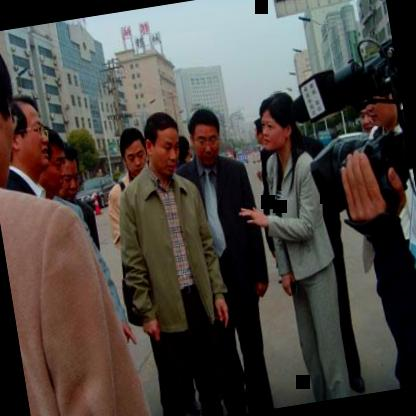head: (0, 29, 31, 187), (1, 90, 54, 178), (250, 86, 304, 158), (138, 107, 186, 176), (184, 101, 228, 167), (35, 124, 73, 198), (113, 122, 152, 184), (360, 78, 405, 130), (52, 143, 86, 199)
